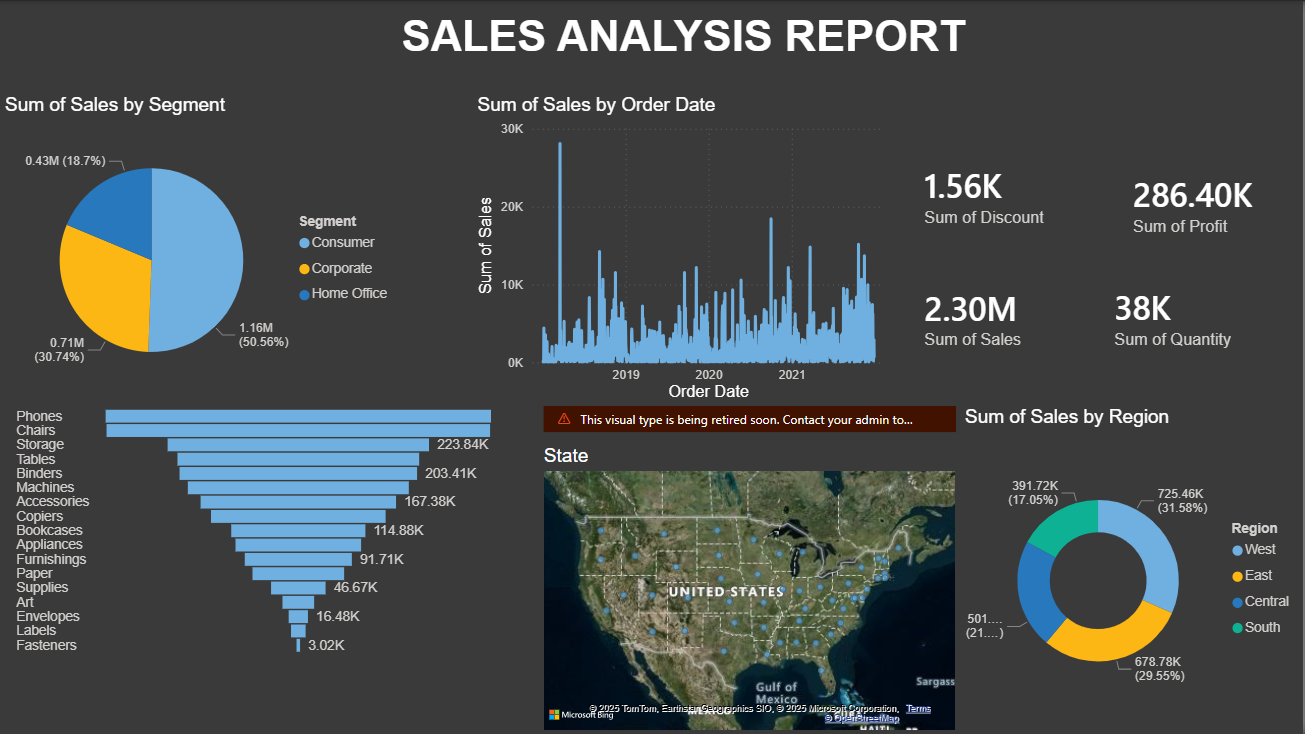

What the dashboard file says about the page in this screenshot:
{"tool":"powerbi","page":{"name":"Sales report","canvas":[1280,720],"ordinal":0},"visuals":[{"type":"donutChart","fields":{"Category":["Orders.Region"],"Y":["Sum(Orders.Sales)"]},"box":[942.7,397.9,337.6,322.5],"z":0},{"type":"funnel","fields":{"Category":["Orders.Sub-Category"],"Y":["Sum(Orders.Sales)"]},"box":[11.1,374.4,481.1,271.1],"z":1},{"type":"map","fields":{"Category":["Orders.State"]},"box":[528.3,397.9,414.4,322.5],"z":2},{"type":"pieChart","fields":{"Category":["Orders.Segment"],"Y":["Sum(Orders.Sales)"]},"box":[0,90.8,393.9,306.8],"z":3},{"type":"lineChart","fields":{"Category":["Orders.Order Date"],"Y":["Sum(Orders.Sales)"]},"box":[463.8,90.8,413.5,306.8],"z":4},{"type":"cardVisual","fields":{"Data":["Sum(Orders.Sales)"]},"box":[877.3,260.1,169.3,99.4],"z":5},{"type":"cardVisual","fields":{"Data":["Sum(Orders.Discount)"]},"box":[877.3,136.2,204.9,108],"z":6},{"type":"cardVisual","fields":{"Data":["Sum(Orders.Quantity)"]},"box":[1063.8,244.2,216,130.1],"z":7},{"type":"cardVisual","fields":{"Data":["Sum(Orders.Profit)"]},"box":[1082.2,143.6,197.5,109.2],"z":8},{"type":"textbox","box":[274.4,0,686.1,75.5],"z":9}]}

Visuals, with their boxes in screenshot pixels (x1, y1, x2, y2), scaled from the page's 1280x720 canvas onto the 1305x734 screenshot:
donutChart - Orders.Region x Sum(Orders.Sales): bbox=[961, 406, 1304, 733]
funnel - Orders.Sub-Category x Sum(Orders.Sales): bbox=[11, 382, 502, 658]
map - Orders.State: bbox=[539, 406, 961, 733]
pieChart - Orders.Segment x Sum(Orders.Sales): bbox=[0, 93, 402, 405]
lineChart - Orders.Order Date x Sum(Orders.Sales): bbox=[473, 93, 894, 405]
cardVisual - Sum(Orders.Sales): bbox=[894, 265, 1067, 366]
cardVisual - Sum(Orders.Discount): bbox=[894, 139, 1103, 249]
cardVisual - Sum(Orders.Quantity): bbox=[1085, 249, 1304, 382]
cardVisual - Sum(Orders.Profit): bbox=[1103, 146, 1304, 258]
textbox: bbox=[280, 0, 979, 77]
